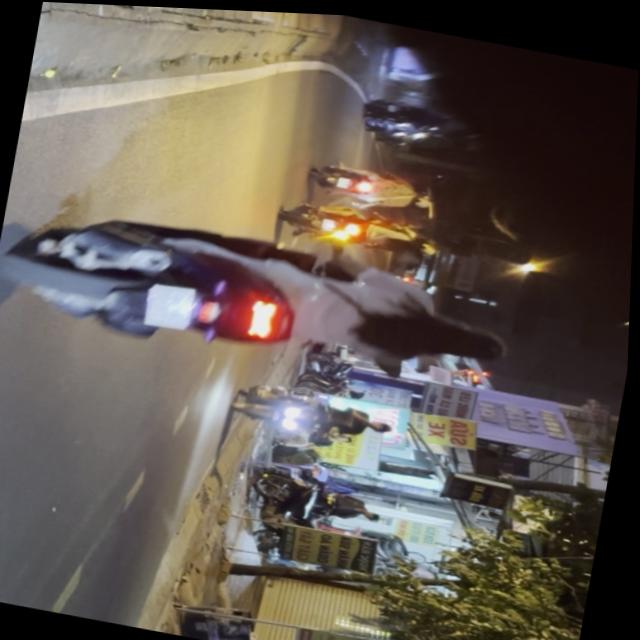licenseplate: (0, 184, 530, 405)
motorcyclist: (417, 310, 514, 367)
nohelmet: (146, 281, 200, 333)
